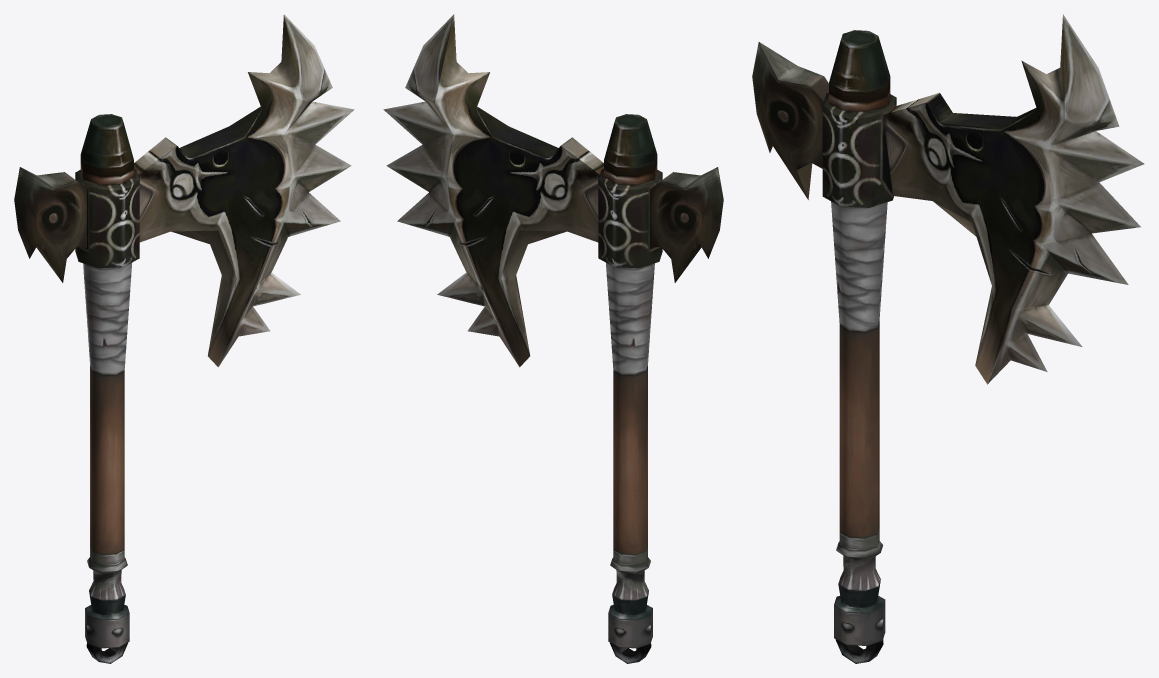
Rendered from Hero_Gau_Vari04_Weapon.fbx.
3 renders of one model, left to right at view 1: azimuth 30°, elevation 25°; view 2: azimuth 150°, elevation 25°; view 3: azimuth 330°, elevation 25°, orthographic. The views are drawn at different scales.
Visible parts, largest first — view 1: Hero_Gau_Vari04_Weapon; view 2: Hero_Gau_Vari04_Weapon; view 3: Hero_Gau_Vari04_Weapon.
Boxes of the visible parts, <box> form: Hero_Gau_Vari04_Weapon: <box>14,14,354,663</box>; Hero_Gau_Vari04_Weapon: <box>383,14,723,663</box>; Hero_Gau_Vari04_Weapon: <box>752,14,1144,663</box>.
Bounding box in the file's own units: 1.01 × 1.71 × 0.1704.
Materials: 1 (1 with a texture image).
